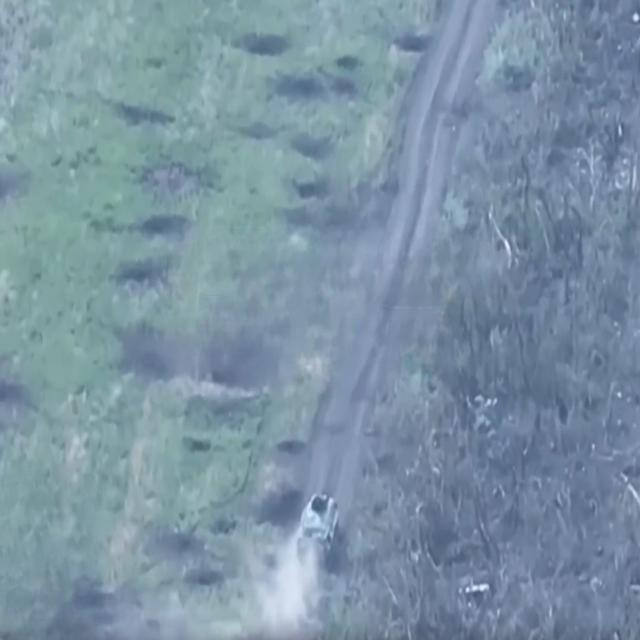APC: (296, 488, 347, 572)
